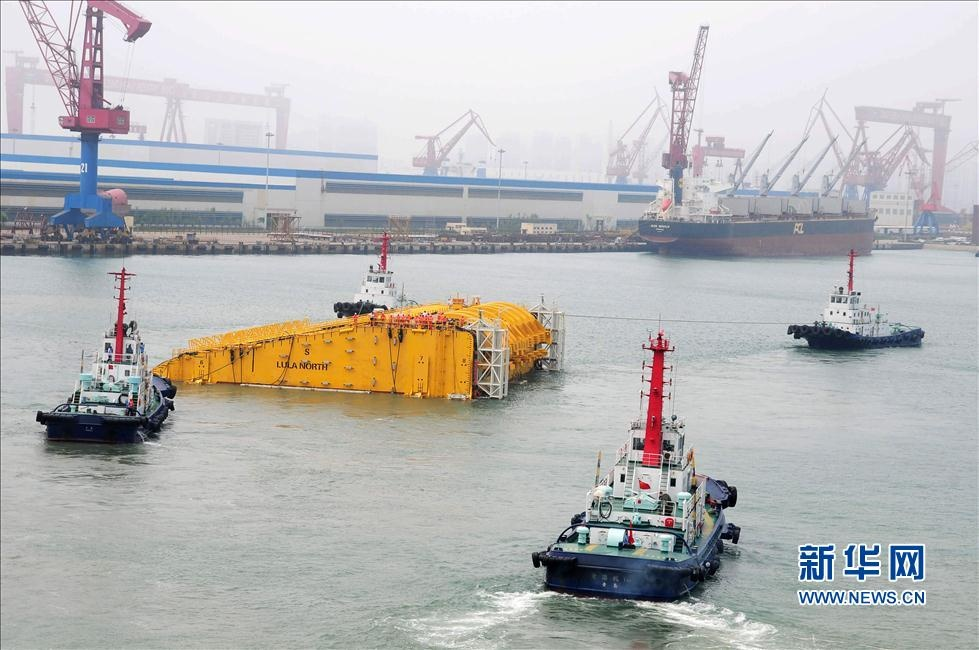Cargoship: (619, 147, 892, 262)
otherboat: (538, 321, 756, 602), (26, 269, 174, 464), (781, 250, 928, 353), (329, 229, 429, 319)
